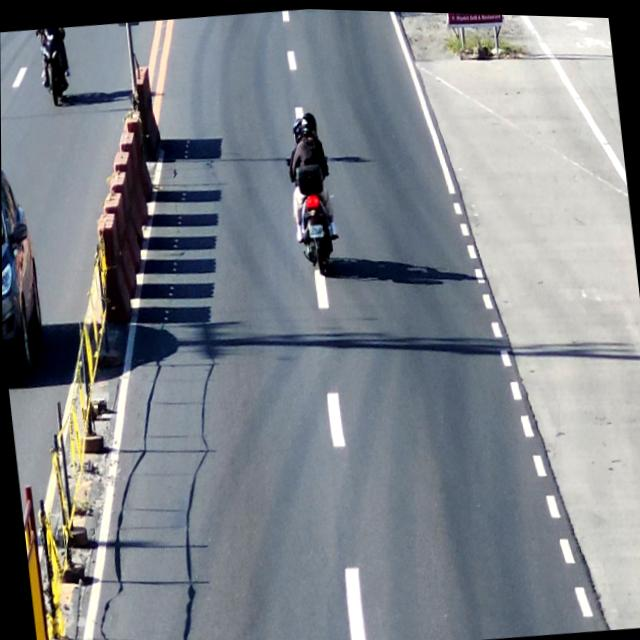License-Plate: (306, 217, 326, 241)
Motorcycle: (279, 101, 350, 282)
